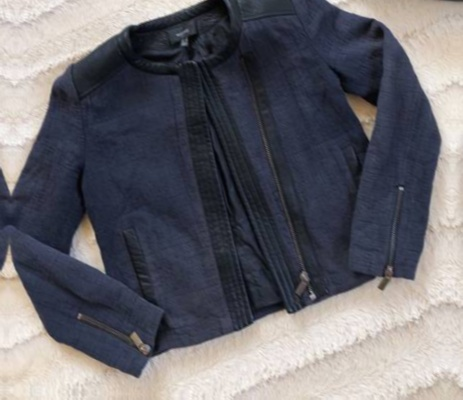Blazer: (8, 0, 448, 386), (0, 0, 14, 372), (456, 1, 463, 400), (0, 396, 0, 400)
